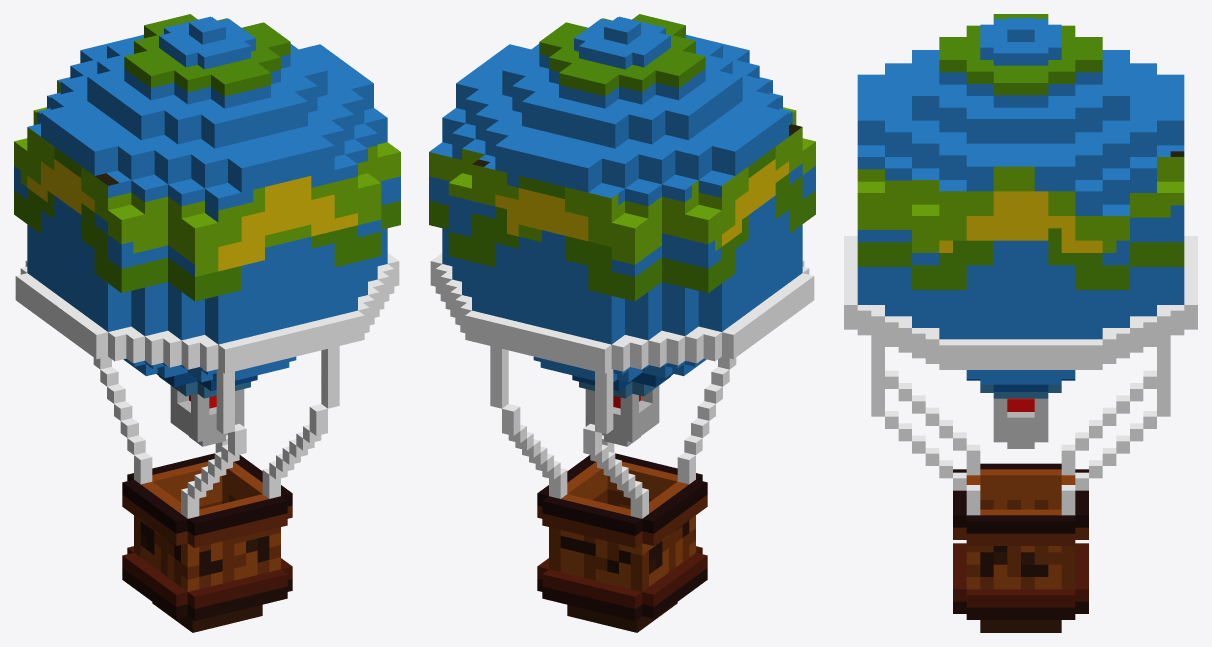
The model's file is FireBallon.fbx.
3 views of the same model, side by side, from view 1: azimuth 30°, elevation 25°; view 2: azimuth 150°, elevation 25°; view 3: azimuth 270°, elevation 25° (orthographic).
Visible parts, largest first — view 1: Ballon; view 2: Ballon; view 3: Ballon.
Part boxes in pixels (x1,y1,x2,y2): Ballon: (14, 14, 400, 632); Ballon: (429, 14, 815, 632); Ballon: (844, 14, 1197, 632).
Bounding box in the file's own units: 2600 × 4800 × 2600.
